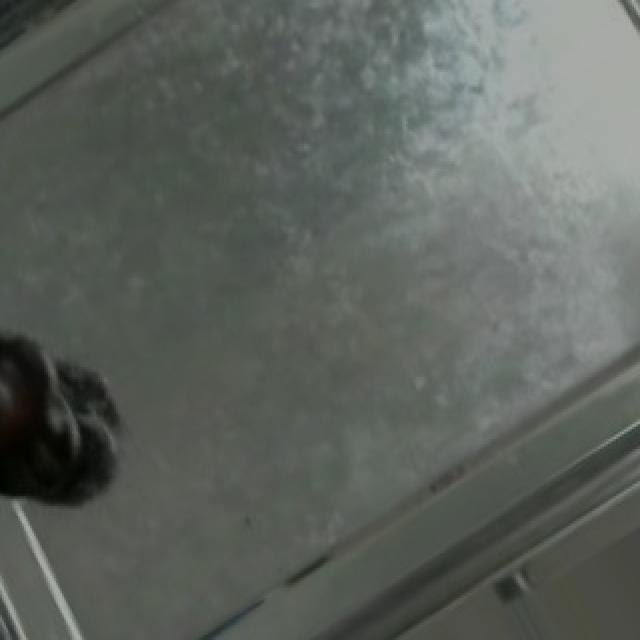Fruit: (0, 322, 96, 518)
